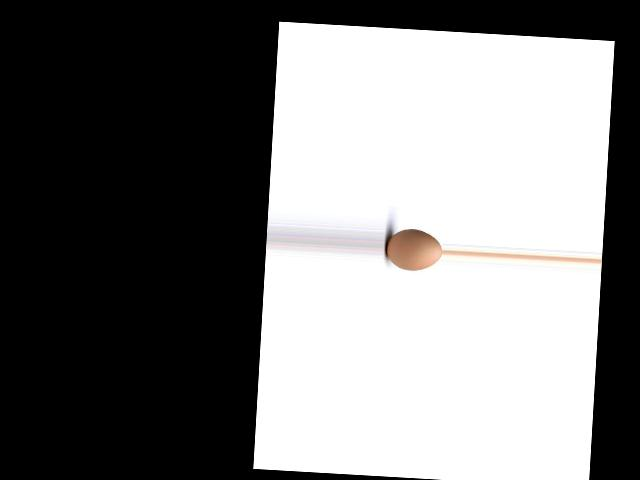egg: (385, 228, 442, 272)
